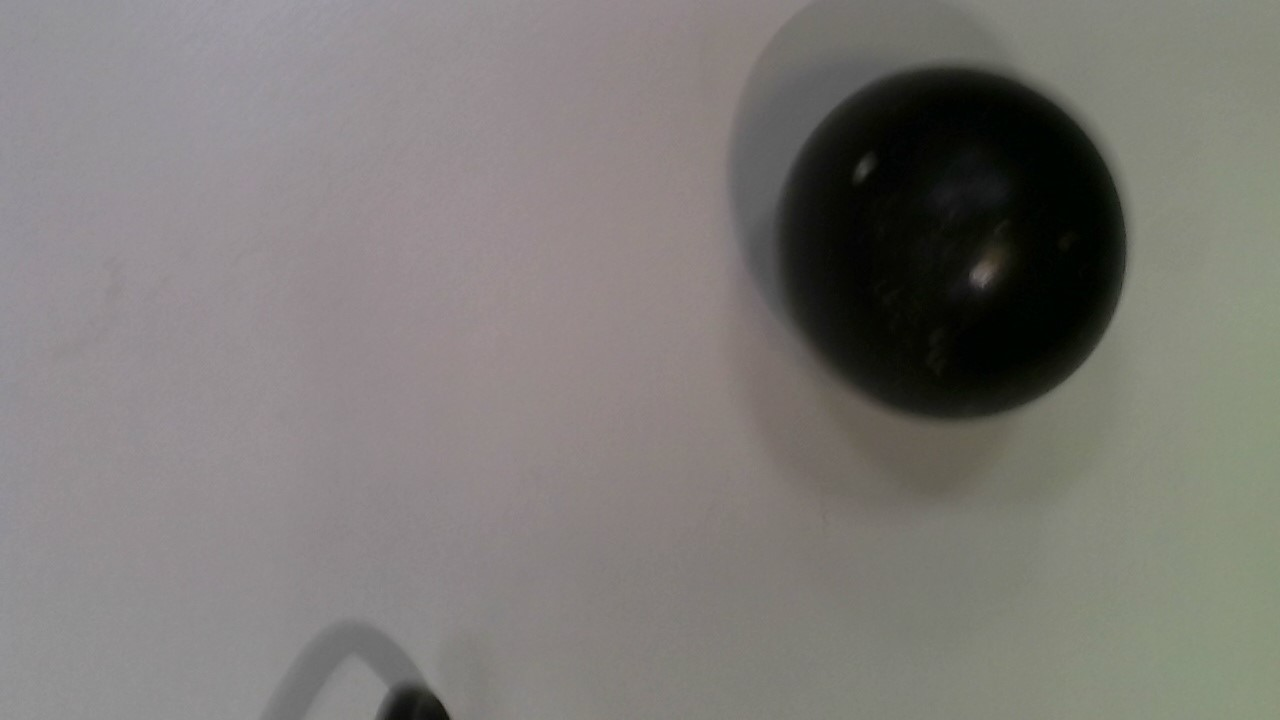black_ball: (763, 55, 1142, 428)
